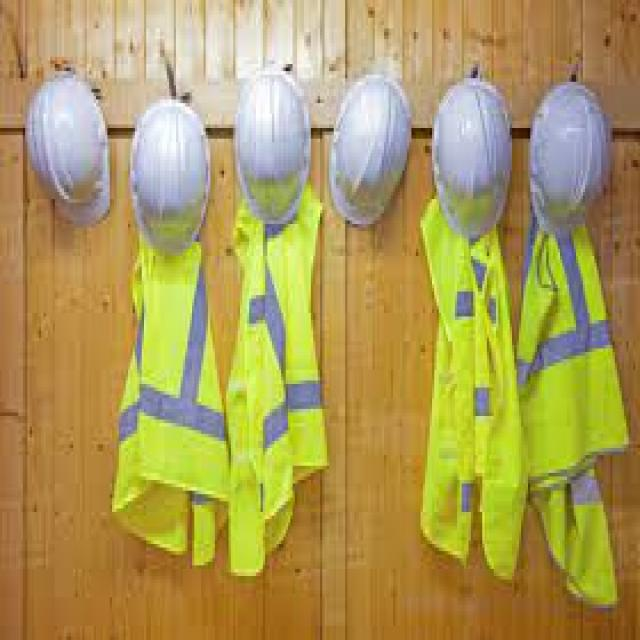Reflective-Jacket: (420, 227, 631, 601), (108, 235, 306, 569), (226, 181, 334, 473), (507, 214, 631, 452)
Safety-Helmet: (320, 68, 418, 234), (14, 61, 114, 220), (425, 68, 517, 238), (521, 71, 622, 217), (121, 89, 217, 242), (224, 61, 318, 196)
